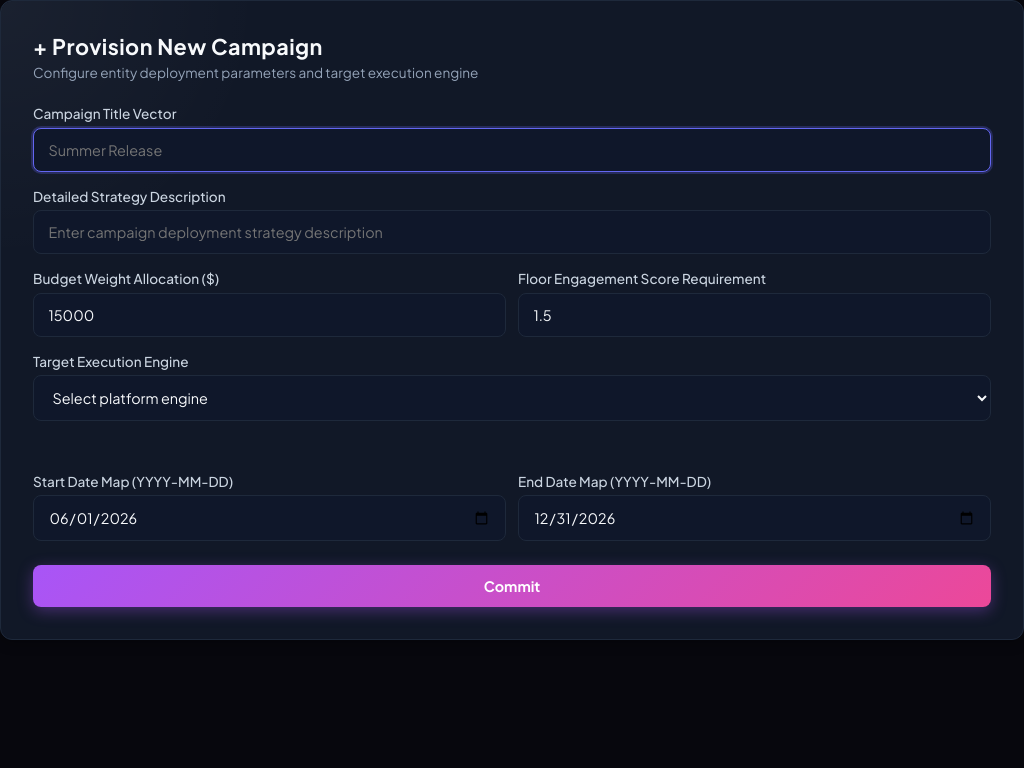
Test: Amypo Project Test Suite › T23 — Failed operation shows domain-specific warning
In the field with placeholder "Summer Release": (512, 150) left=33, top=128, right=991, bottom=172, type "Test Campaign"
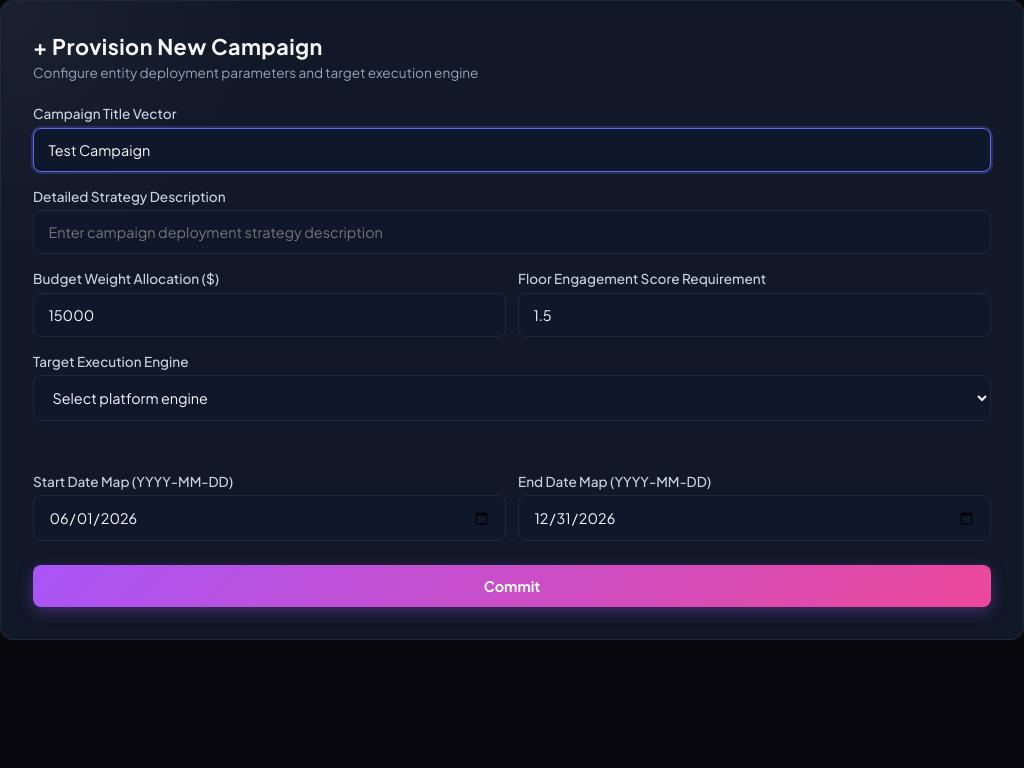
Click the button "Commit": (512, 586) left=33, top=565, right=991, bottom=607
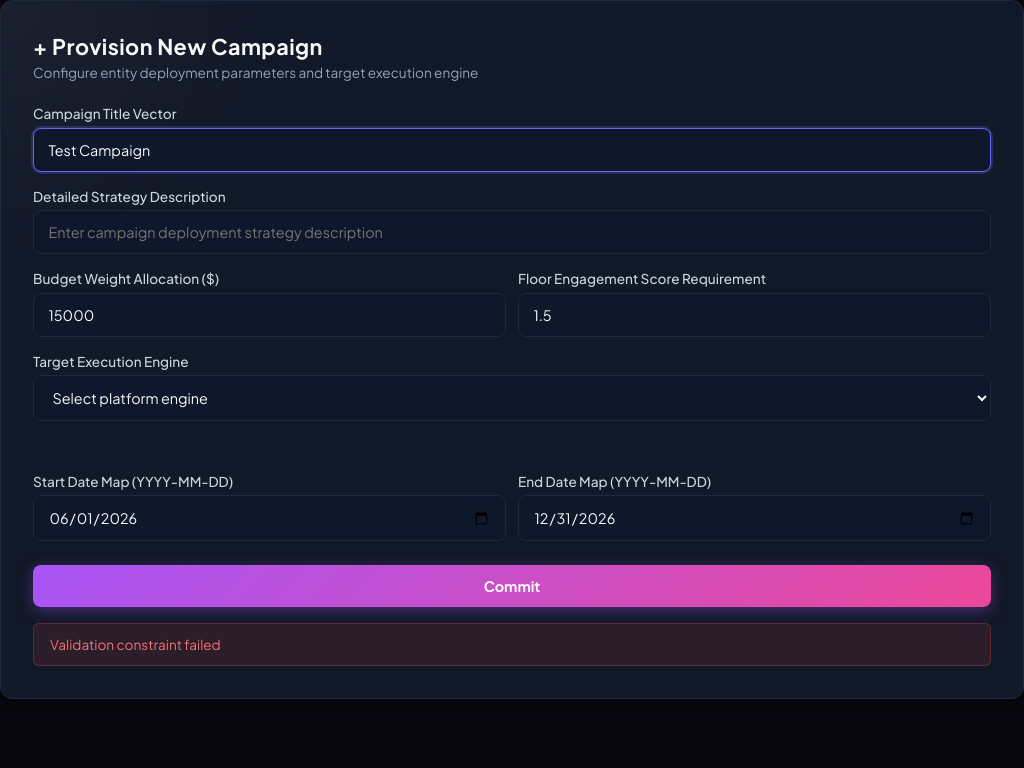
expect the message "Validation constraint failed" is shown: met, box left=33, top=623, right=991, bottom=666
expect the message reads "Validation constraint failed": met, box left=50, top=636, right=221, bottom=653
